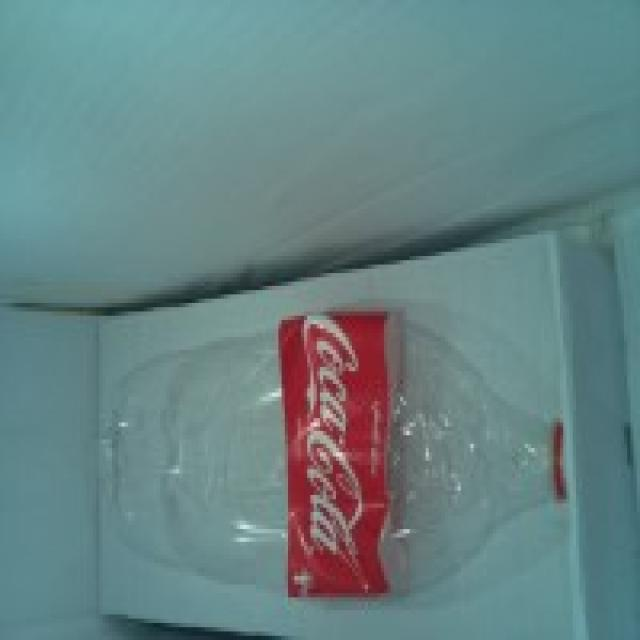Anorganik: (96, 324, 566, 593)
